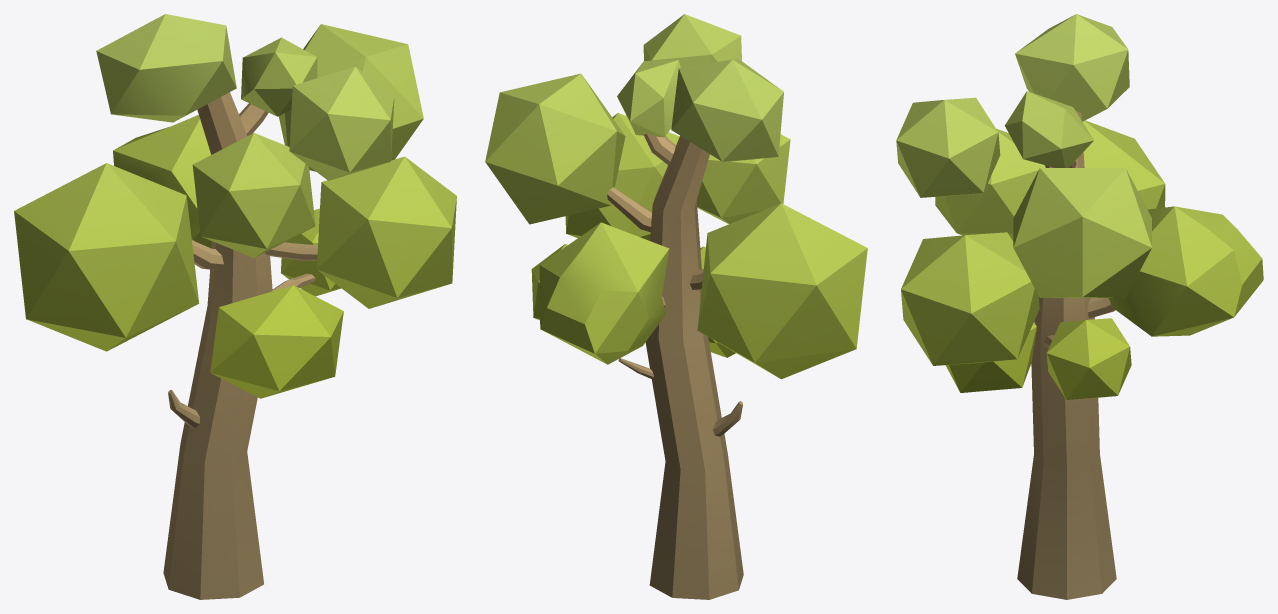
File: Tree003.fbx
3 renders of one model, left to right at view 1: azimuth 30°, elevation 25°; view 2: azimuth 150°, elevation 25°; view 3: azimuth 270°, elevation 25°, orthographic. The views are drawn at different scales.
Parts seen in each view (by area): view 1: Cylinder.011; view 2: Cylinder.011; view 3: Cylinder.011.
Part boxes in pixels (x1=…): Cylinder.011: x1=14, y1=14, x2=456, y2=599; Cylinder.011: x1=485, y1=14, x2=867, y2=599; Cylinder.011: x1=896, y1=14, x2=1263, y2=599.
Bounding box in the file's own units: 581 × 817 × 499.
